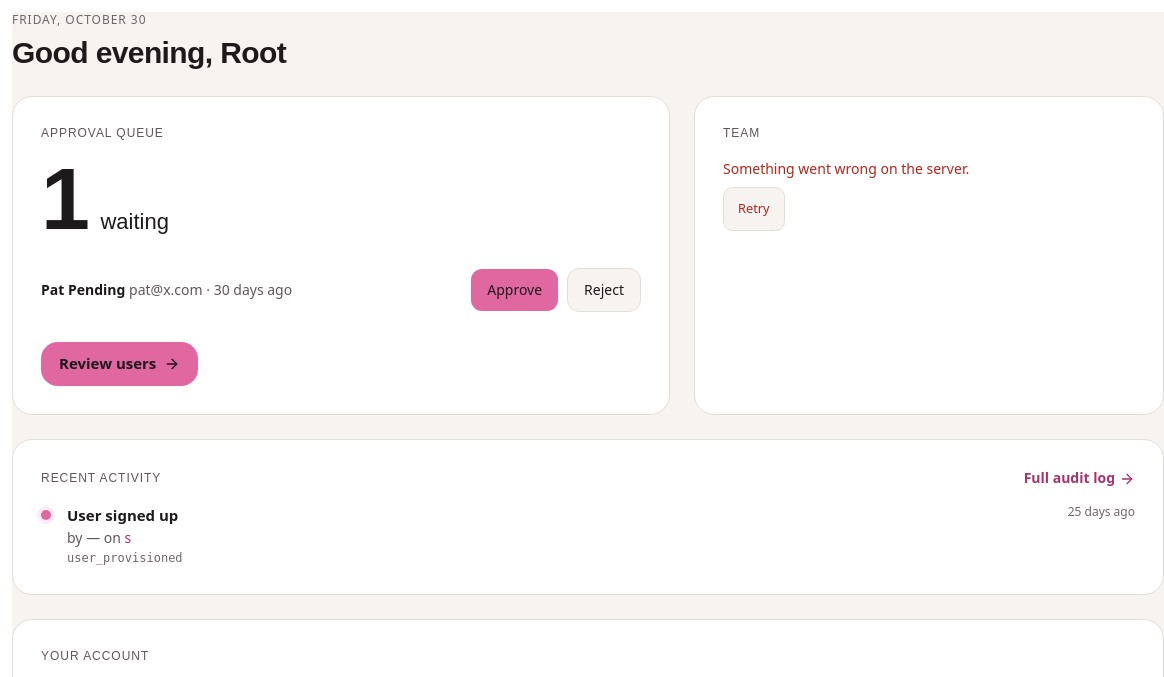
isolates a failing Team count, offers retry, and recovers
expect the text "Pat Pending" is shown: met, box 41,280 -> 125,299
expect the message shows "went wrong on the server": met, box 723,158 -> 969,178
Click the button "Retry" at [754, 208], box 723,186 -> 785,230
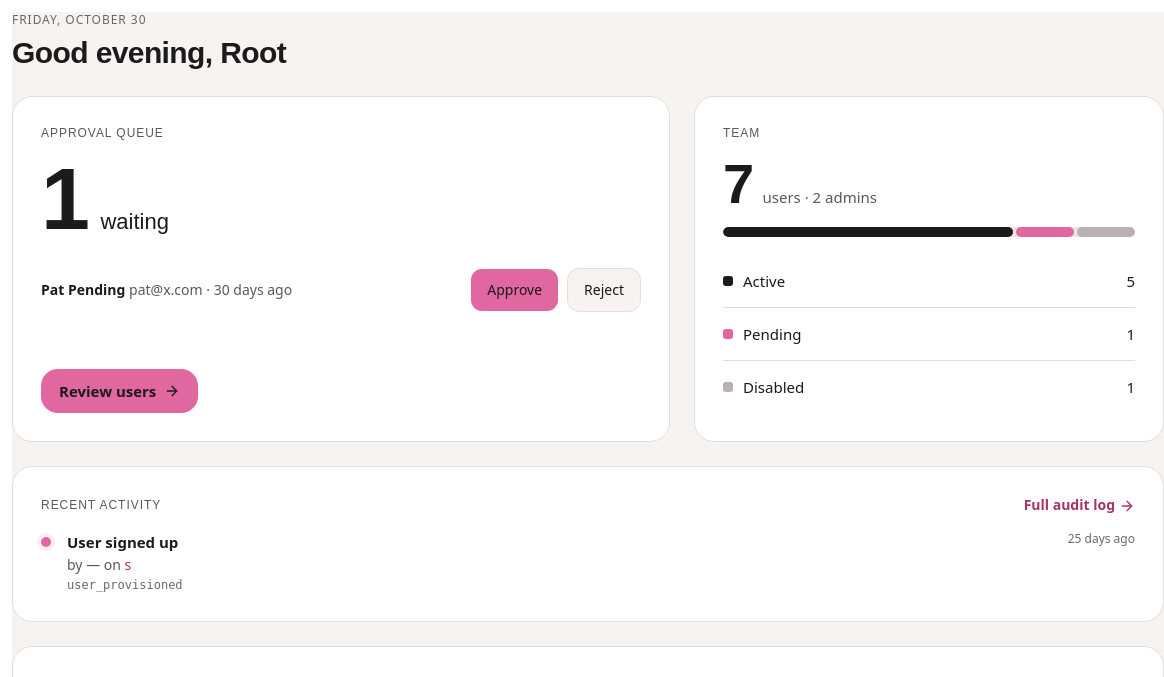
expect the link "Disabled" is shown: met, box 743,371 -> 804,403
expect the message "Something went wrong on the server. Retry" is gone: met
